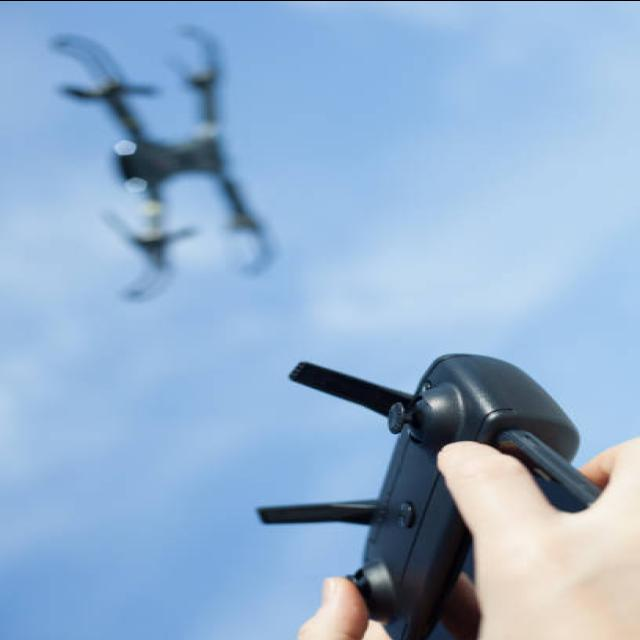drone: (46, 24, 268, 302)
